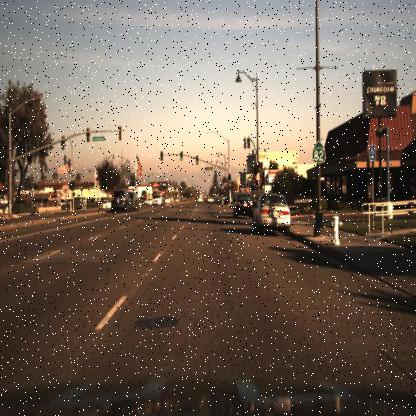car: (252, 190, 296, 242), (227, 188, 256, 222), (228, 191, 255, 223), (108, 188, 130, 216), (112, 191, 133, 212), (129, 186, 141, 212), (96, 196, 111, 212), (97, 197, 111, 214)
trafficLight-Green: (193, 156, 201, 172), (178, 151, 184, 164), (226, 176, 232, 188)
